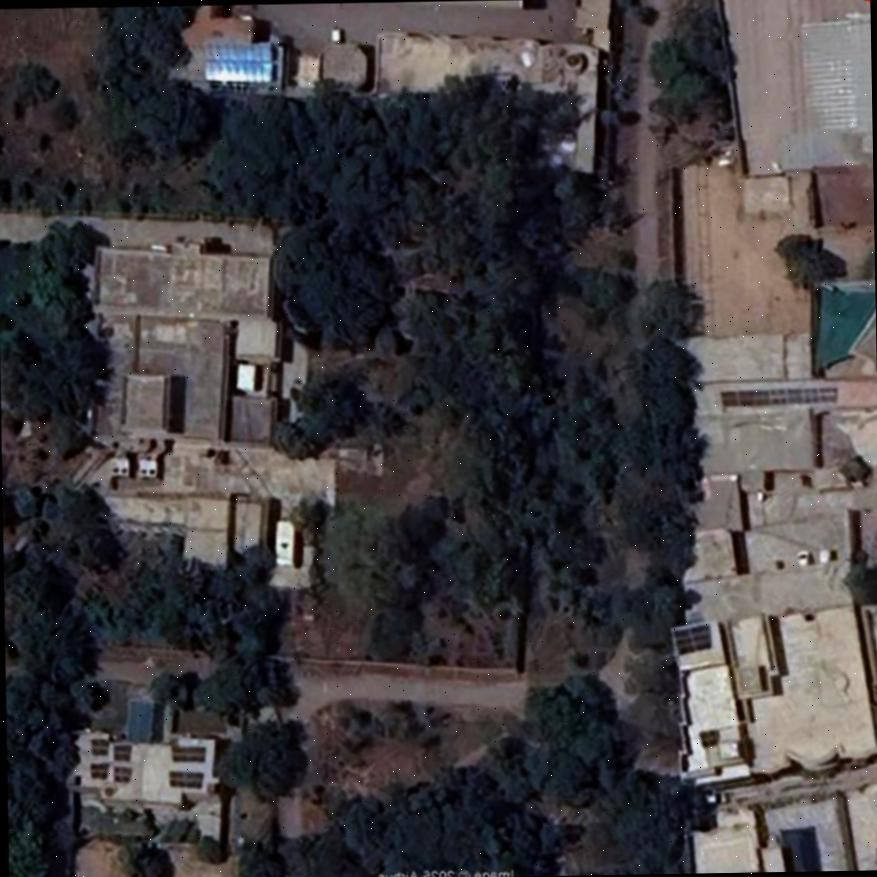Solarpanel: (206, 39, 273, 79), (720, 387, 835, 404), (671, 623, 711, 651), (170, 744, 203, 761), (167, 771, 202, 786), (111, 744, 132, 758), (90, 738, 107, 753), (112, 765, 130, 779), (90, 763, 107, 776)
